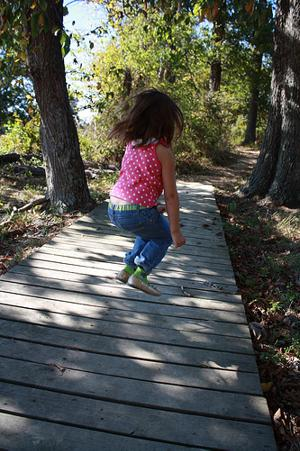person: (105, 88, 183, 296)
